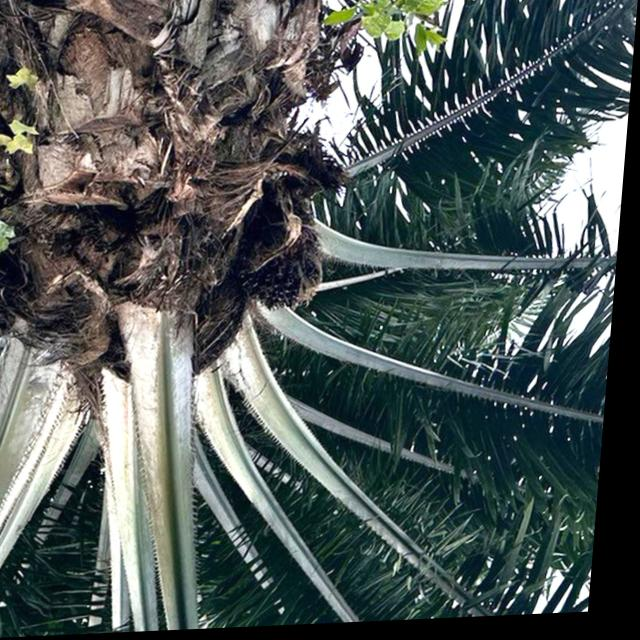almost: (250, 223, 334, 316)
